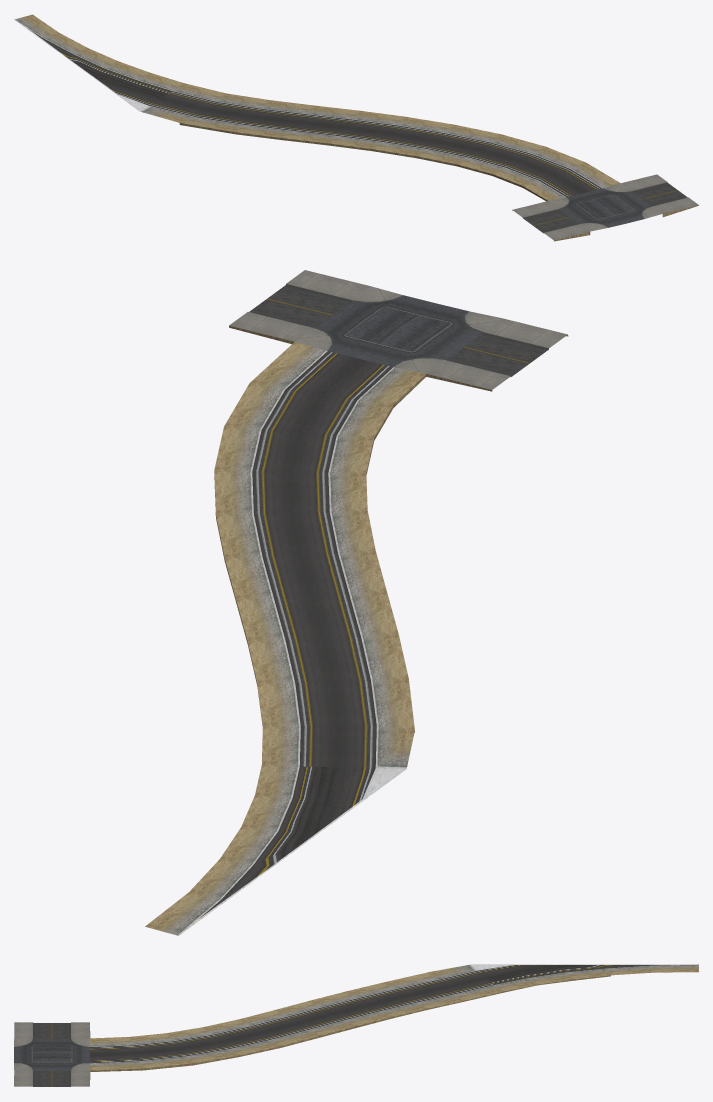
File: vegaseroad066.obj
3 views of the same model, one above another, from view 1: azimuth 30°, elevation 25°; view 2: azimuth 150°, elevation 25°; view 3: azimuth 270°, elevation 25° (orthographic). The views are drawn at different scales.
Parts seen in each view (by area): view 1: VegasEroad066; view 2: VegasEroad066; view 3: VegasEroad066.
Part boxes in pixels (bbox=[...]): VegasEroad066: bbox=[14, 14, 698, 241]; VegasEroad066: bbox=[145, 270, 568, 935]; VegasEroad066: bbox=[14, 964, 698, 1086].
Bounding box in the file's own units: 84.92 × 4.75 × 180.
12 materials, 12 textured.
